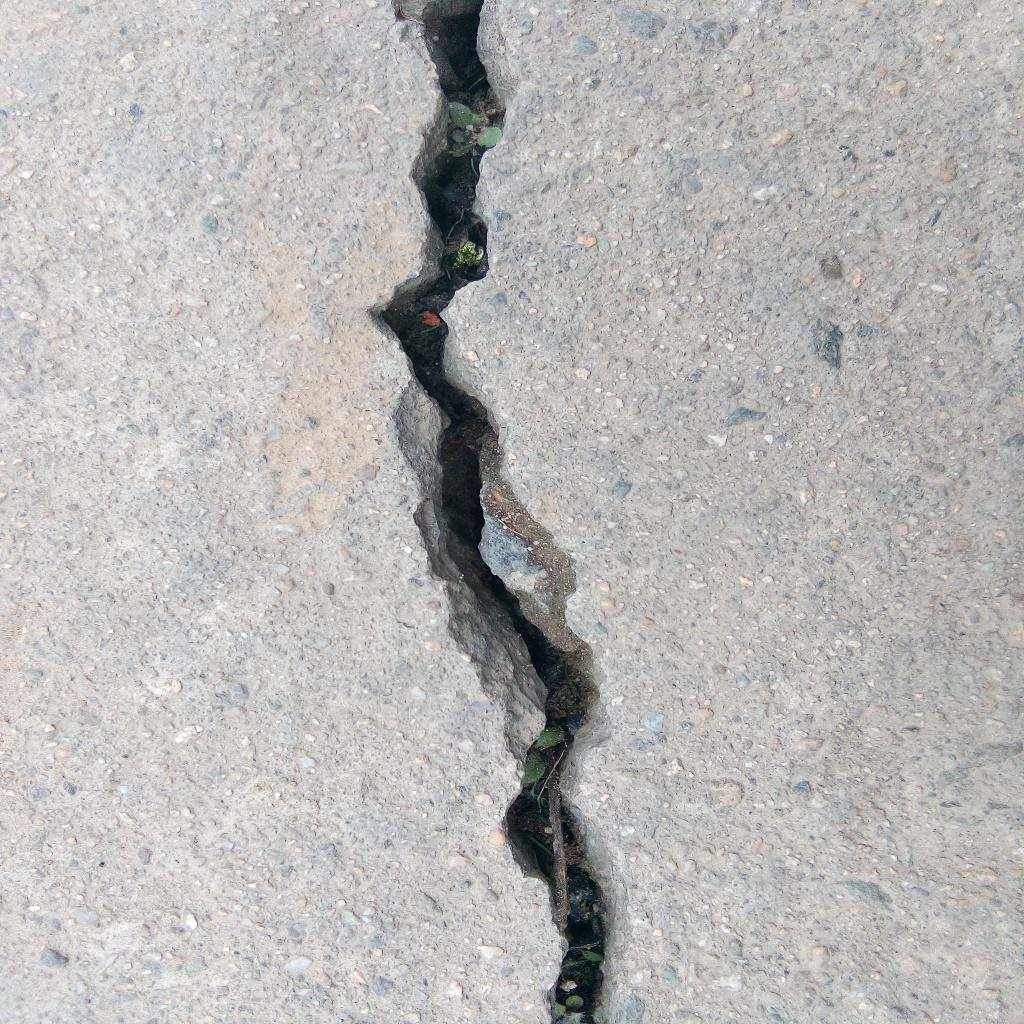Crack: (364, 1, 609, 1024)
